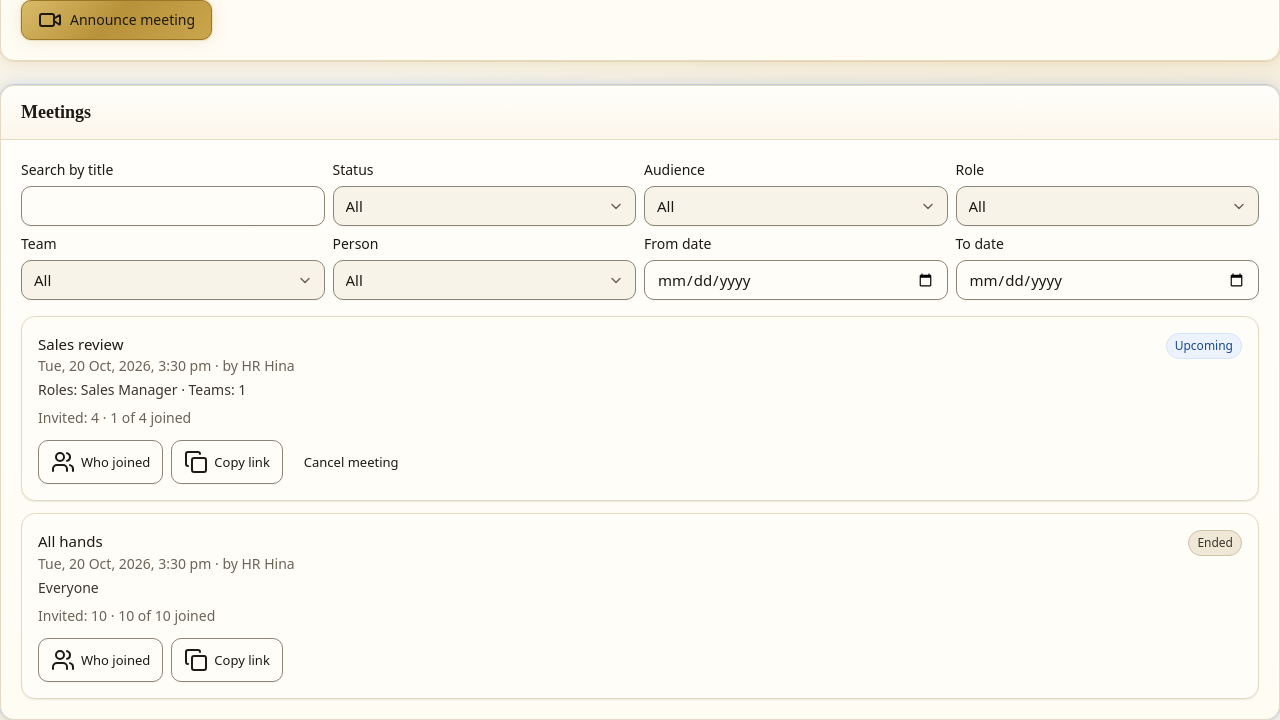
Scenario: Meetings page (HR / Founder / Developer) › shows who was invited and who joined
The width and height of the screenshot is (1280, 720).
(page scrolled)
What coordinates should you click on to do the following:
click the button "Who joined" below "Sales review"
I would click on:
 (101, 462)
Its box is 38,440 -> 163,484.
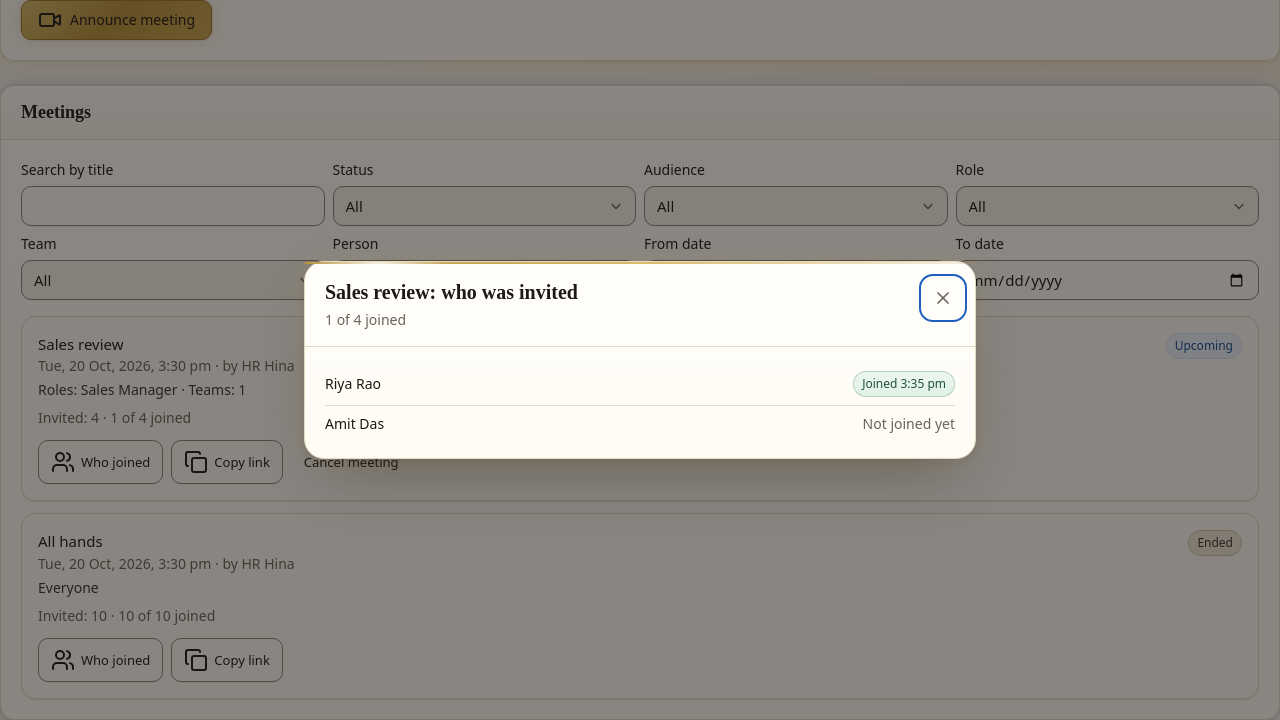
Check: the text "Riya Rao" is shown, box 325,374 -> 381,394
Check: the text "Joined 3:35 pm" is shown, box 853,371 -> 955,397
Check: the text "Not joined yet" is shown, box 863,414 -> 955,434
